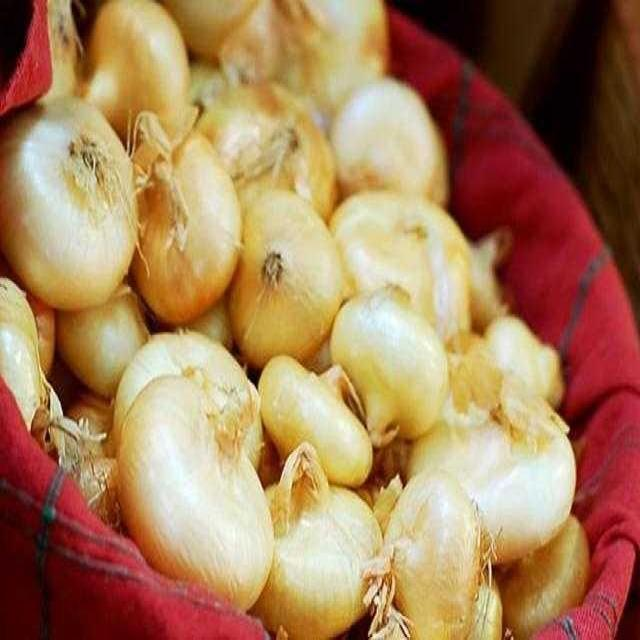healthy: (0, 0, 588, 639), (118, 376, 273, 610), (0, 98, 137, 309), (0, 98, 136, 310), (409, 411, 575, 563), (253, 442, 381, 639), (131, 113, 240, 324), (329, 191, 469, 340), (228, 189, 343, 367), (364, 471, 483, 639), (331, 285, 448, 445), (110, 332, 257, 451), (80, 0, 189, 139), (258, 356, 372, 487), (330, 78, 447, 204), (57, 285, 149, 397)
